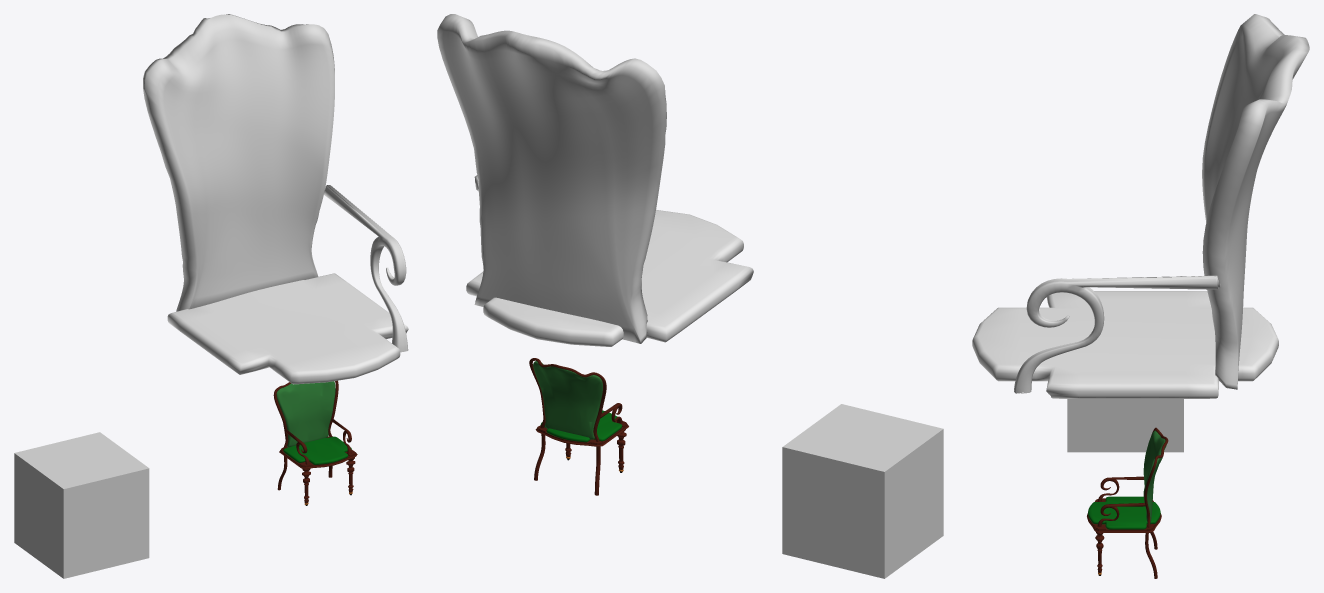
File: chair.glb
3 views of the same model, side by side, from view 1: azimuth 30°, elevation 25°; view 2: azimuth 150°, elevation 25°; view 3: azimuth 270°, elevation 25° (orthographic). The views are drawn at different scales.
Parts seen in each view (by area): view 1: BézierCurve - backing_cushion, chair_base_cushion, Reference cube, BézierCurve - backing_cushion._LP, arm_l_front, chair_base_cushion._LP; view 2: BézierCurve - backing_cushion, Reference cube, chair_base_cushion, BézierCurve - backing_cushion._LP, chair_base_cushion._LP, BézierCurve - backing; view 3: chair_base_cushion, BézierCurve - backing_cushion, Reference cube, arm_l_front, chair_base_cushion._LP, BézierCurve - backing_cushion._LP, arm_l_front_LP, chair_base.
Part boxes in pixels (bbox=[...]): BézierCurve - backing_cushion: bbox=[143, 14, 334, 311]; chair_base_cushion: bbox=[167, 273, 408, 384]; Reference cube: bbox=[14, 432, 149, 578]; BézierCurve - backing_cushion._LP: bbox=[276, 381, 335, 447]; arm_l_front: bbox=[324, 185, 408, 352]; chair_base_cushion._LP: bbox=[283, 436, 351, 464]; BézierCurve - backing_cushion: bbox=[437, 14, 666, 343]; Reference cube: bbox=[782, 404, 943, 578]; chair_base_cushion: bbox=[466, 210, 753, 346]; BézierCurve - backing_cushion._LP: bbox=[533, 361, 602, 439]; chair_base_cushion._LP: bbox=[540, 410, 622, 442]; BézierCurve - backing: bbox=[529, 358, 606, 441]; chair_base_cushion: bbox=[972, 291, 1278, 398]; BézierCurve - backing_cushion: bbox=[1202, 14, 1309, 389]; Reference cube: bbox=[1067, 399, 1183, 452]; arm_l_front: bbox=[1014, 275, 1220, 393]; chair_base_cushion._LP: bbox=[1088, 496, 1160, 529]; BézierCurve - backing_cushion._LP: bbox=[1143, 430, 1166, 522]; arm_l_front_LP: bbox=[1097, 476, 1145, 526]; chair_base: bbox=[1087, 498, 1161, 532].
Bounding box in the file's own units: 4.01 × 4.8 × 2.89.
